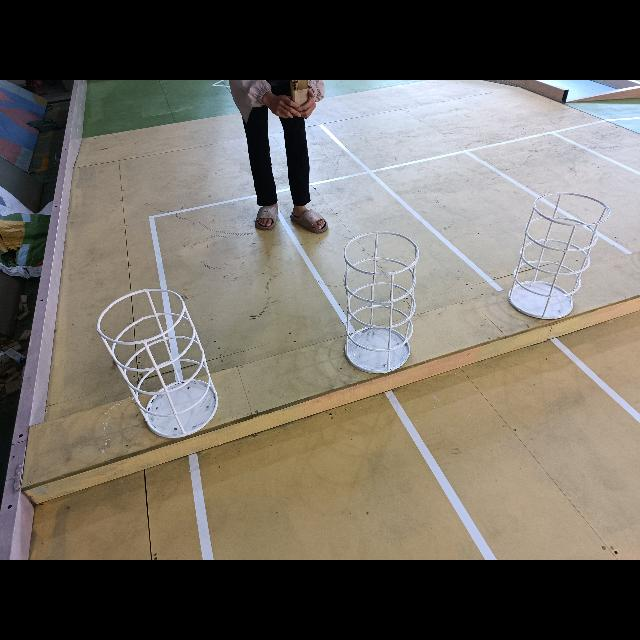S: (94, 287, 220, 442), (506, 192, 612, 320), (342, 229, 419, 377)
